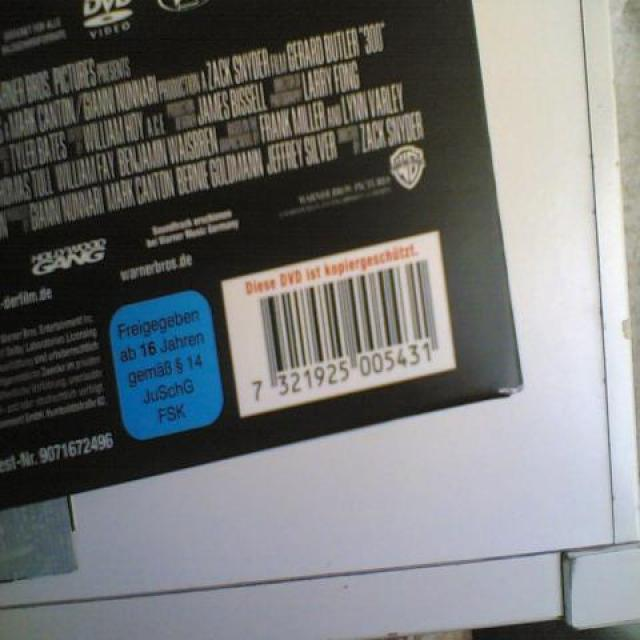Barcode: (221, 228, 458, 420)
